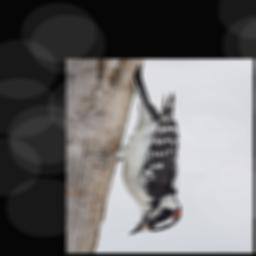Woodpecker: (83, 63, 184, 237)
